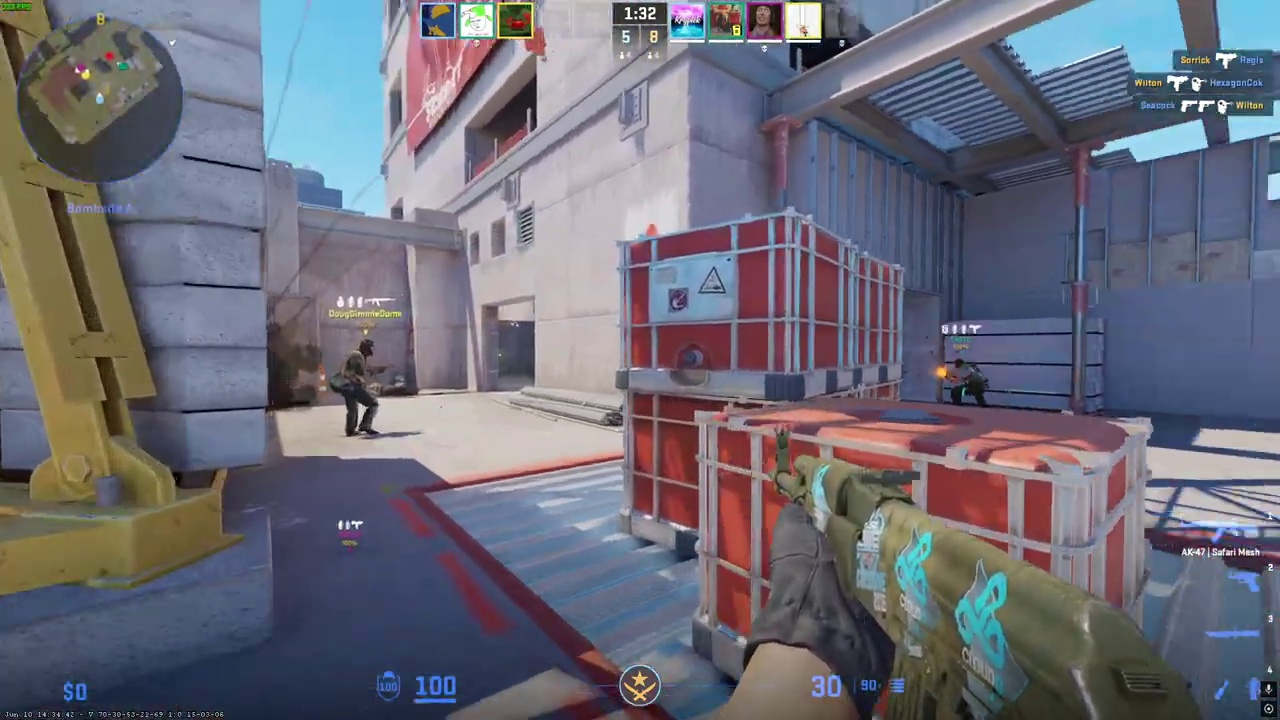Terrorist: (338, 338, 384, 437), (945, 356, 988, 409)
